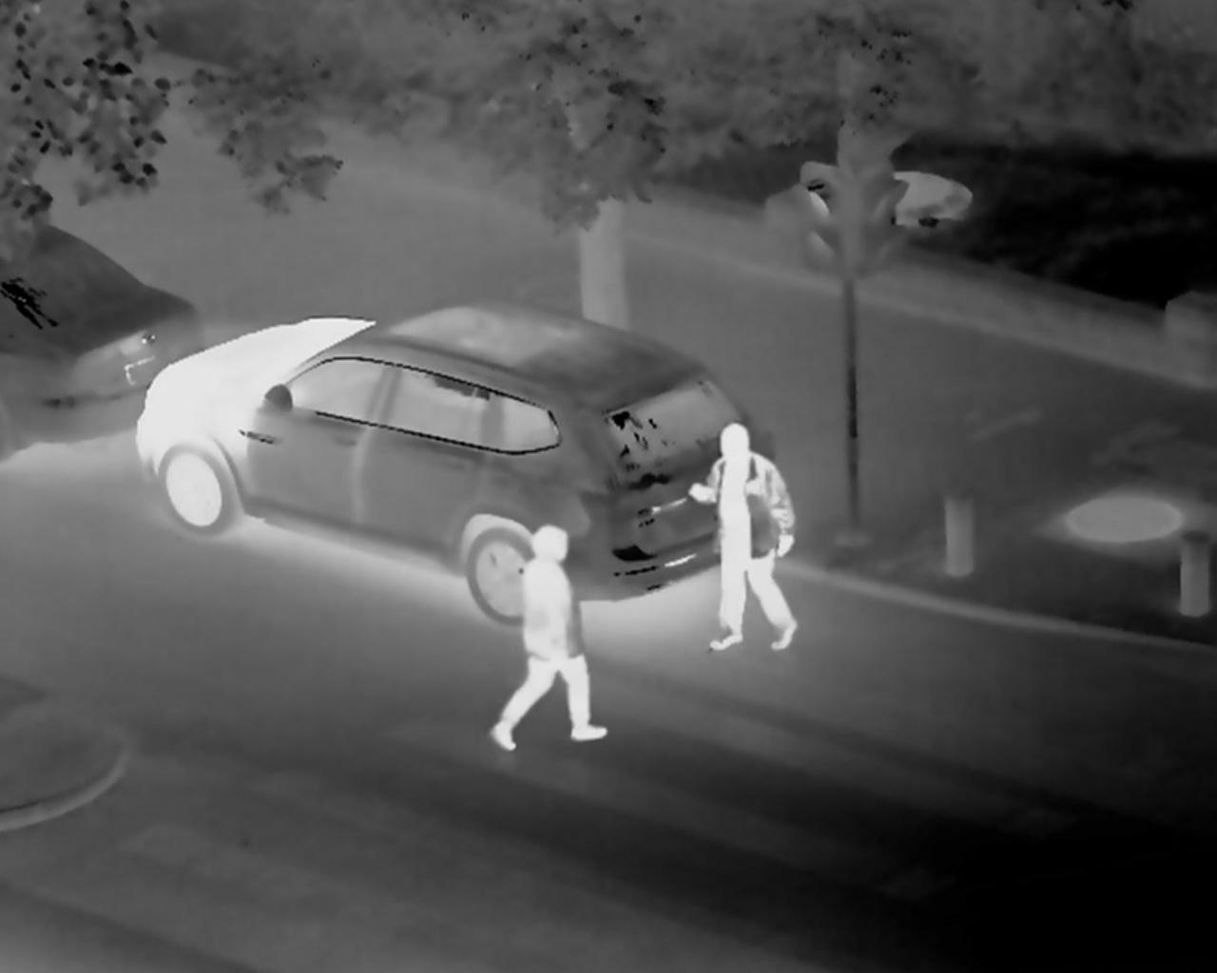person: (699, 428, 848, 665), (513, 526, 626, 765)
